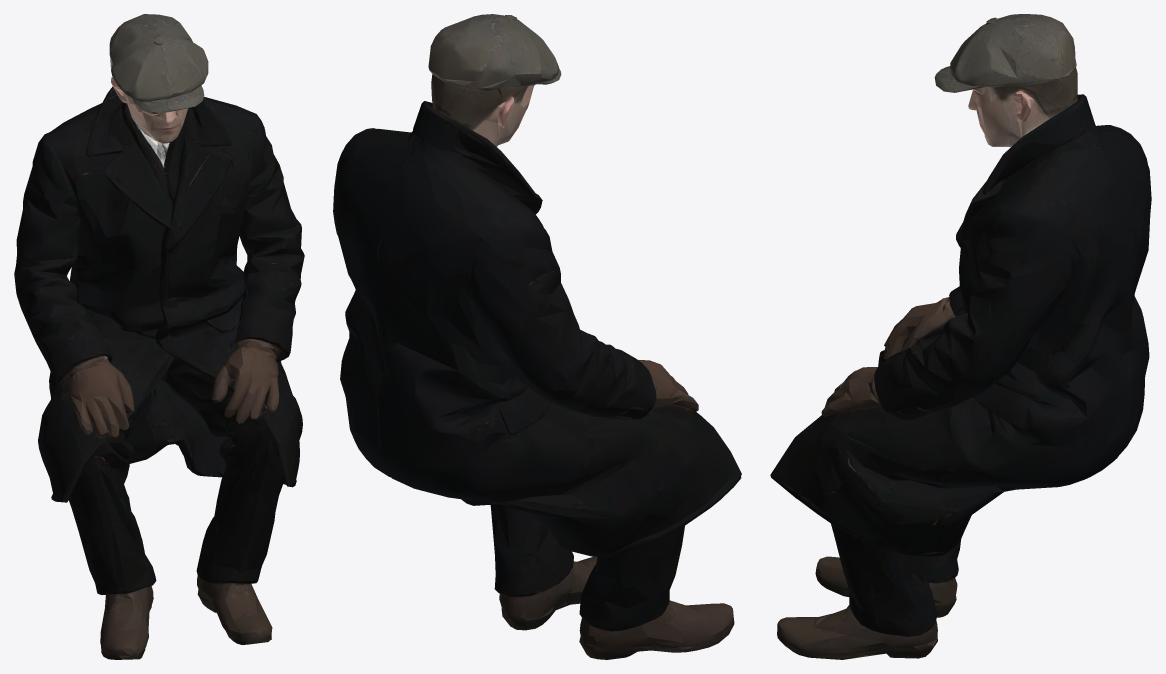
Rendered from passenger_c.glb.
The picture shows the model from 3 angles, left to right: view 1: azimuth 30°, elevation 25°; view 2: azimuth 150°, elevation 25°; view 3: azimuth 270°, elevation 25°; orthographic projection. The views are drawn at different scales.
Visible parts, largest first — view 1: Mesh_0; view 2: Mesh_0; view 3: Mesh_0.
Part boxes in pixels (x1,y1,x2,y2): Mesh_0: (14, 14, 304, 659); Mesh_0: (333, 14, 741, 659); Mesh_0: (770, 14, 1151, 659).
Bounding box in the file's own units: 1.02 × 1.9 × 1.05.
Materials: 1 (1 with a texture image).
